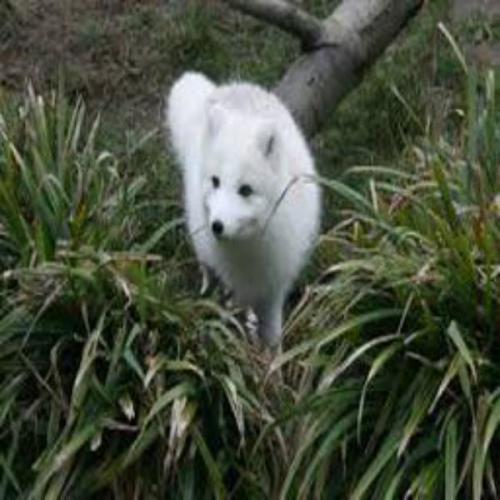arctic_fox-endangered: (163, 71, 323, 347)
